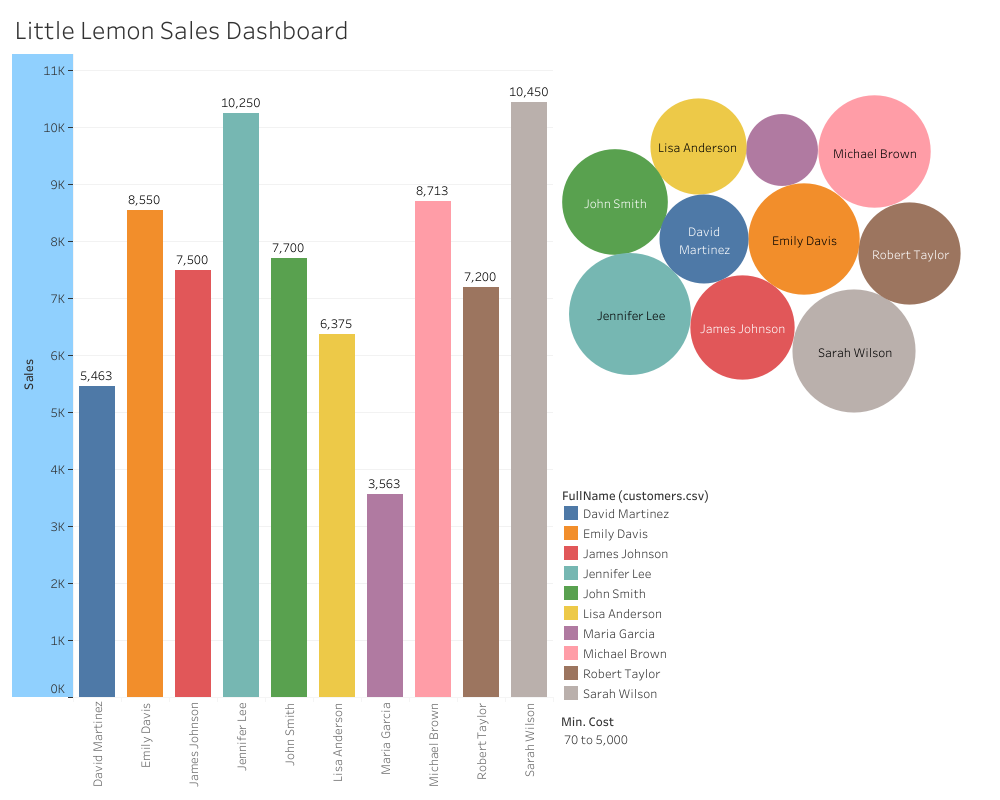

This screenshot's page, from the dashboard's own definition file:
{"tool":"tableau","page":{"name":"Little Lemon Sales Dashboard","canvas":[1000,800],"ordinal":0},"visuals":[{"type":"title","box":[8,8,984,42]},{"type":"worksheet","title":"Customers Sales","mark":"Automatic","rows":["Calculation_1125907220316201"],"cols":["FullName (customers.csv)"],"box":[8,50,549,742]},{"type":"worksheet","title":"Sales Bubble Chart","mark":"Circle","box":[557,50,435,408]},{"type":"legend","title":"Sales Bubble Chart","param":"[federated.0dkwyk60z9bivn1b99ljk18rvulg].[sum:Calculation_1125907220316201:qk]","box":[557,458,435,22]},{"type":"legend","title":"Sales Bubble Chart","param":"[federated.0dkwyk60z9bivn1b99ljk18rvulg].[none:FullName (customers.csv):nk]","box":[557,480,435,227]},{"type":"filter","title":"Customers Sales","param":"[federated.0dkwyk60z9bivn1b99ljk18rvulg].[min:Cost:qk]","box":[557,707,435,70]}]}

Visuals, with their boxes in screenshot pixels (x1, y1, x2, y2), scaled from the page's 1000x800 canvas onto the 1000x800 screenshot:
title: bbox=(8, 8, 992, 50)
"Customers Sales" worksheet: bbox=(8, 50, 557, 792)
"Sales Bubble Chart" worksheet (Circle marks): bbox=(557, 50, 992, 458)
"Sales Bubble Chart" legend: bbox=(557, 458, 992, 480)
"Sales Bubble Chart" legend: bbox=(557, 480, 992, 707)
"Customers Sales" filter: bbox=(557, 707, 992, 777)
